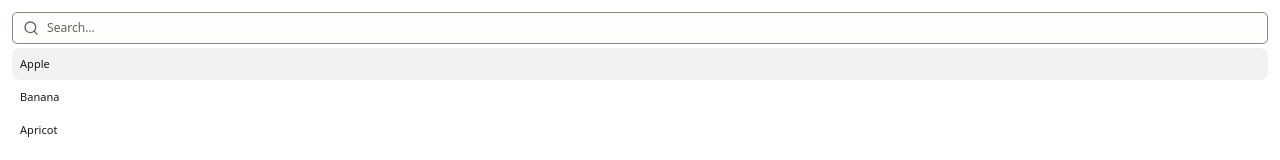
Scenario: Command › custom filter function works
Type "ap" into the dropdown with placeholder "Search…". click: (652, 28)
box: [47,19,1257,37]
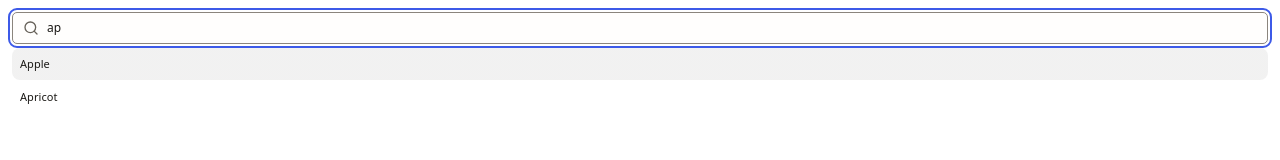
expect the option "Apple" is shown: met, box [12,48,1268,80]
expect the option "Banana" is gone: met
